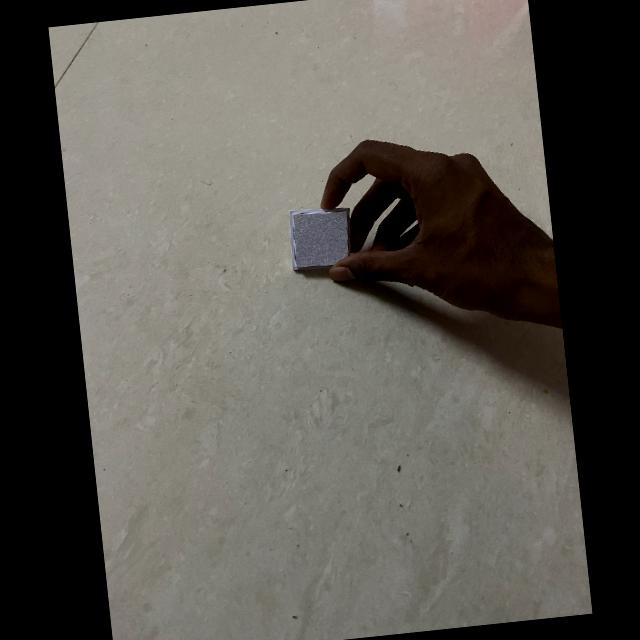RASPBERY PI CAM ENCLOSURE: (286, 204, 354, 273)
